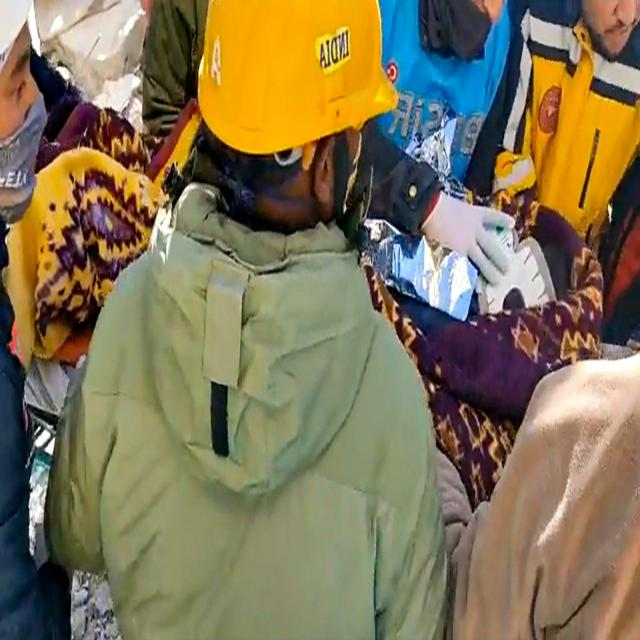Safety-Helmet: (193, 0, 398, 155), (0, 0, 39, 93)
